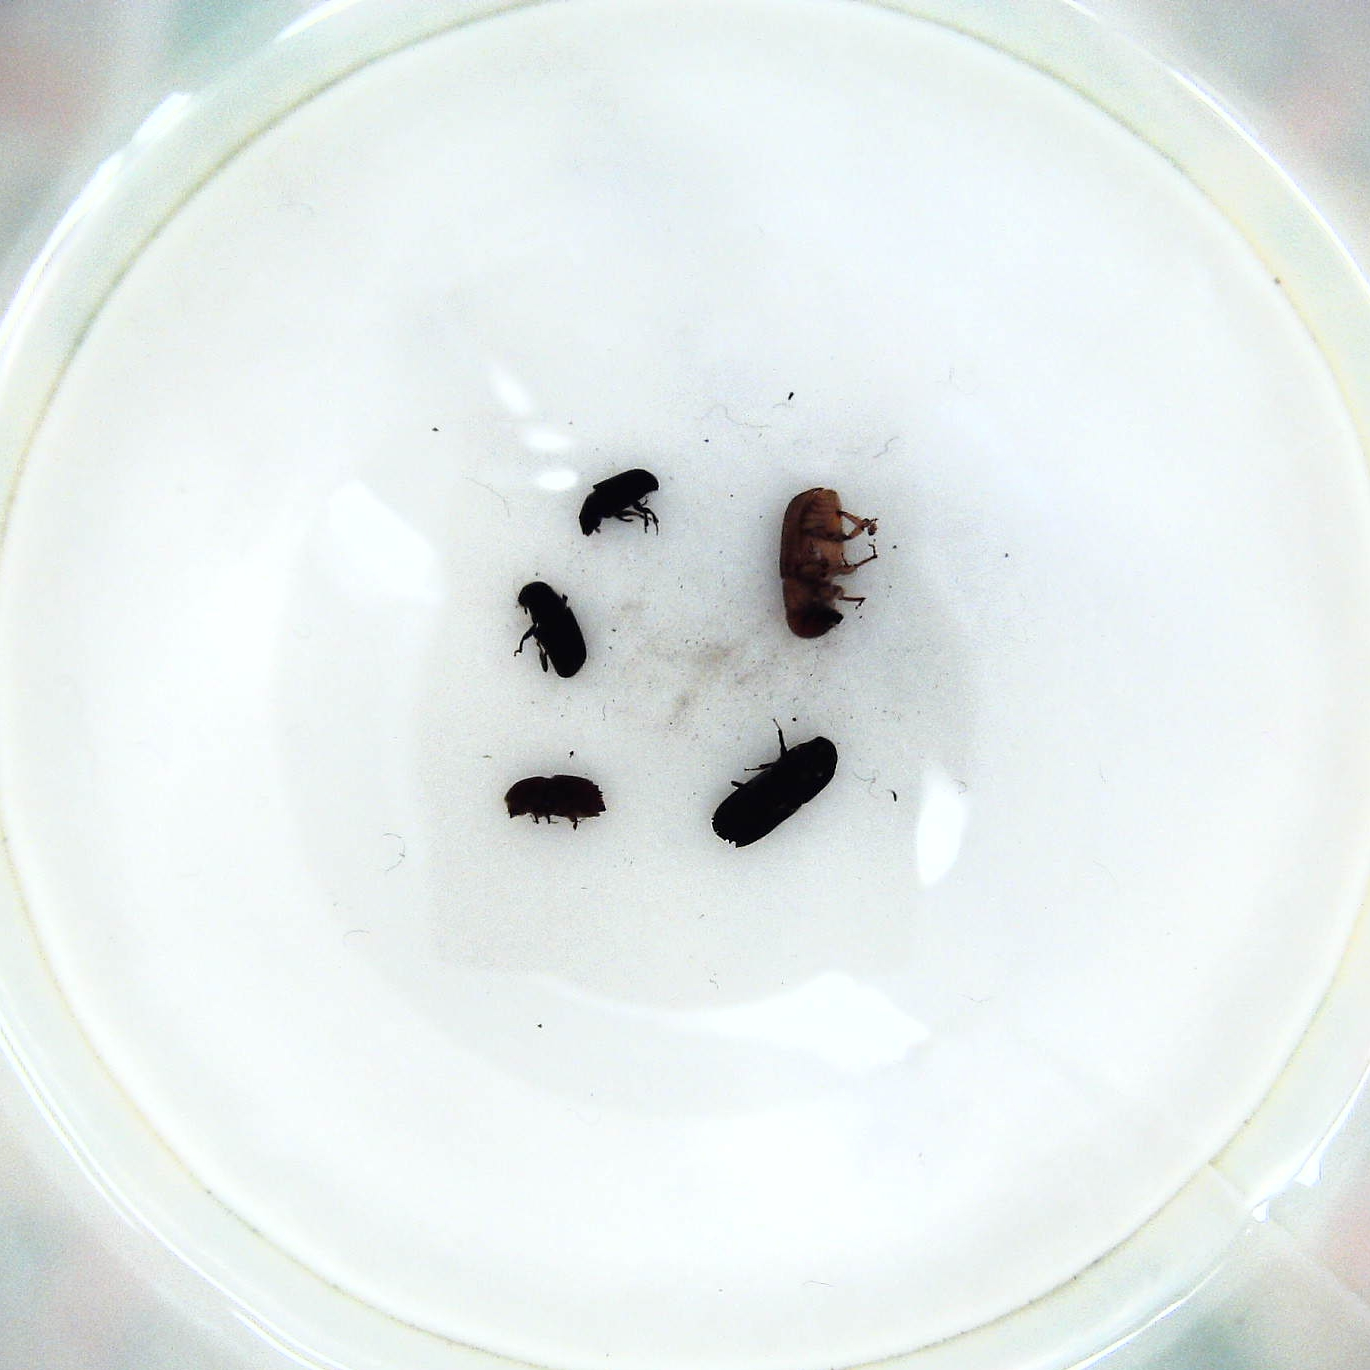Boerner: (708, 724, 846, 851)
Leconte: (778, 483, 884, 649)
armandi: (507, 575, 590, 682)
coleoptera: (578, 468, 666, 544)
linnaeus: (497, 770, 612, 829)
